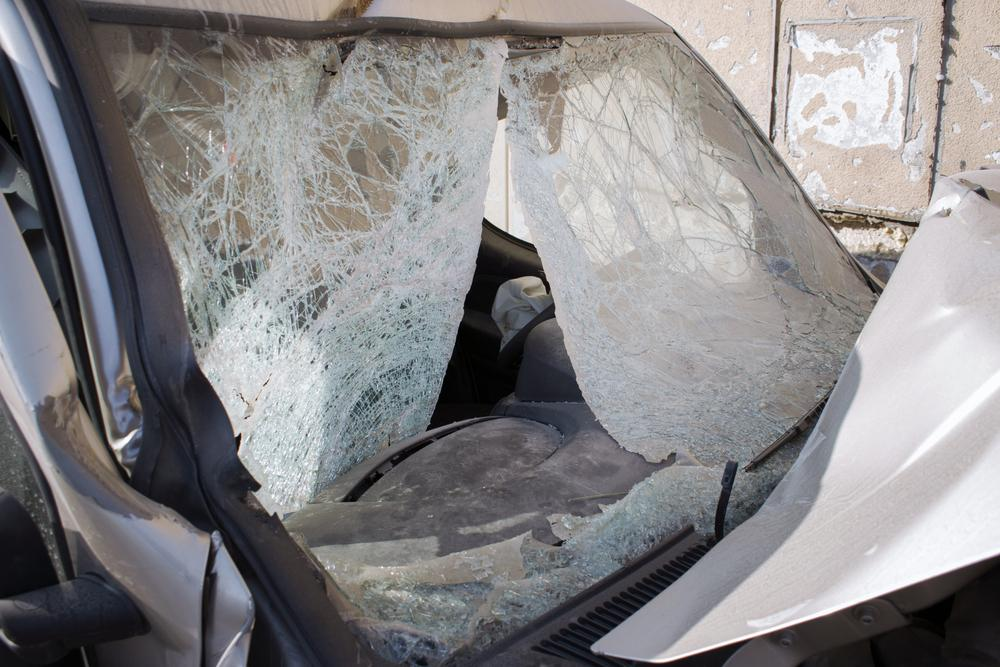dent: (33, 377, 165, 520), (101, 356, 141, 473)
glass shatter: (94, 21, 877, 667)
